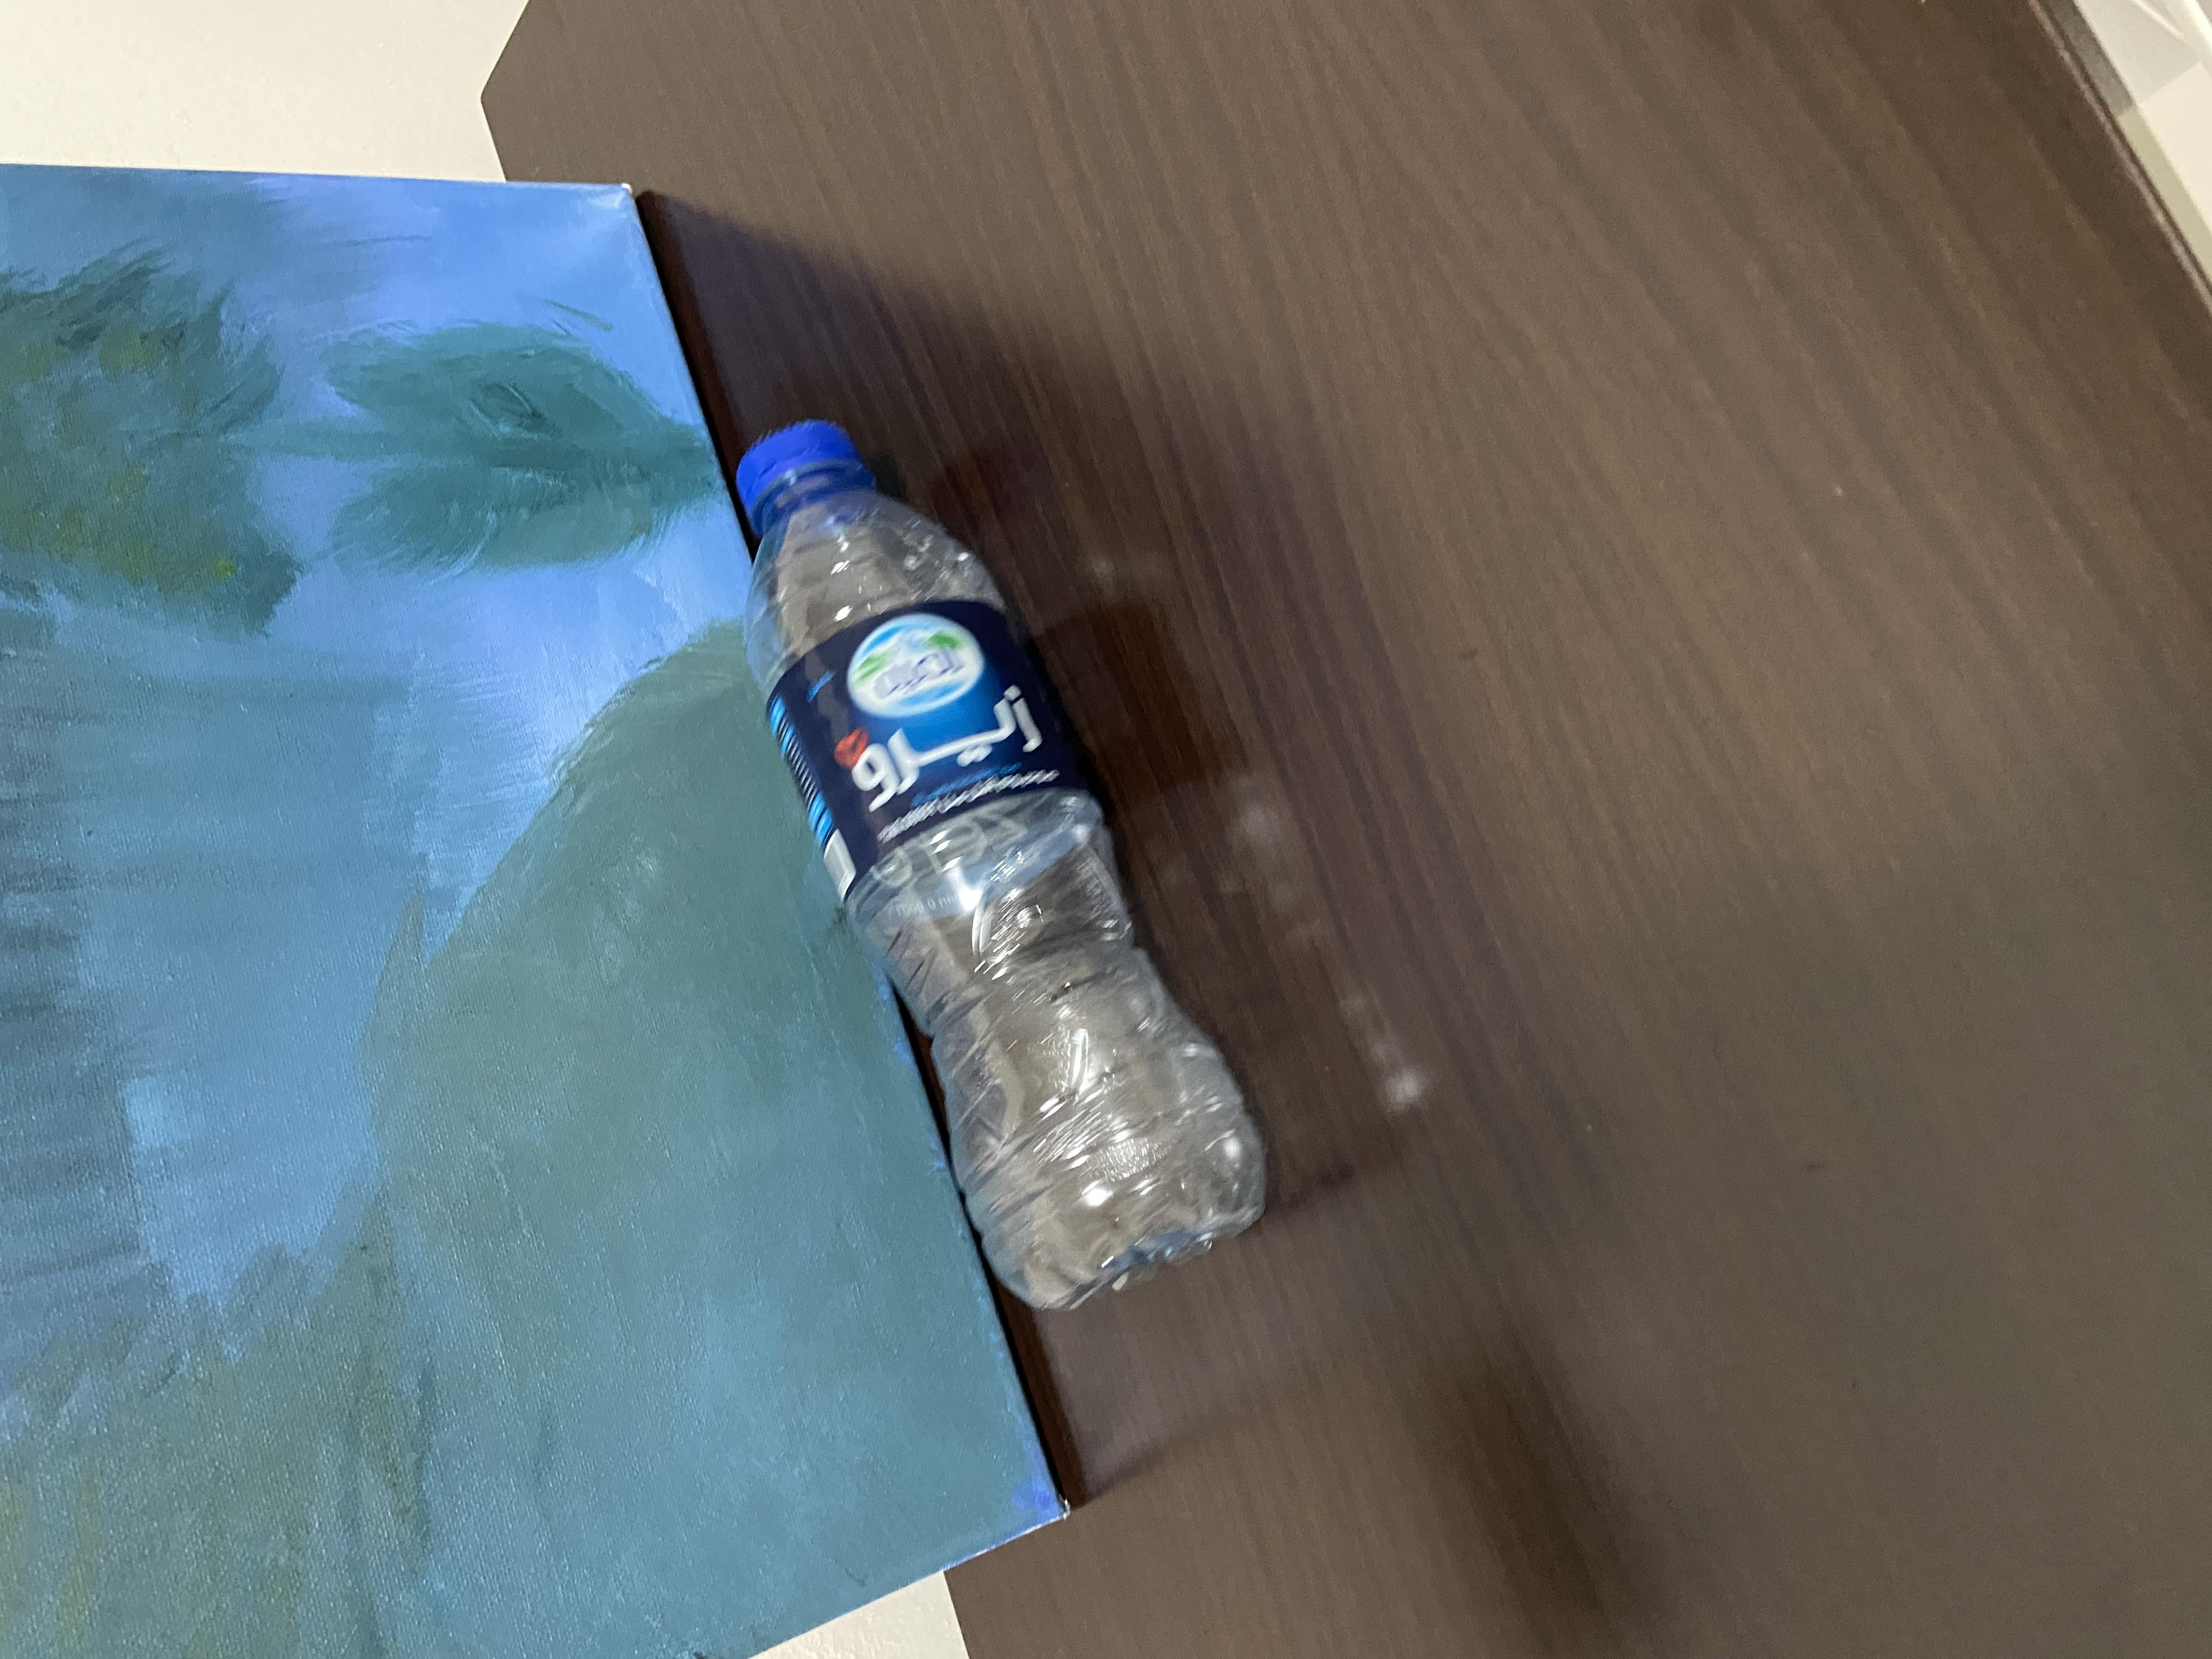bottle: (437, 532, 1677, 941)
